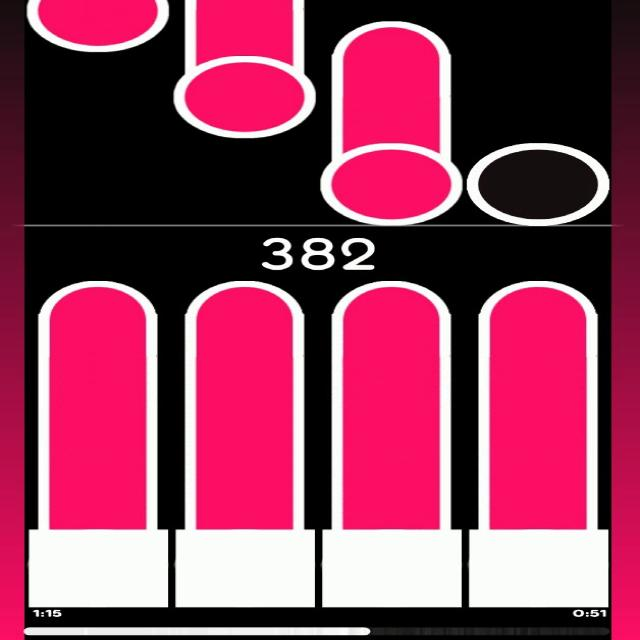end_hold: (325, 278, 457, 325), (178, 277, 307, 322), (31, 277, 166, 320), (472, 278, 602, 322), (326, 19, 456, 61)
note: (468, 141, 608, 226)
start_hold: (173, 39, 316, 140), (322, 126, 464, 226), (26, 0, 170, 52)
